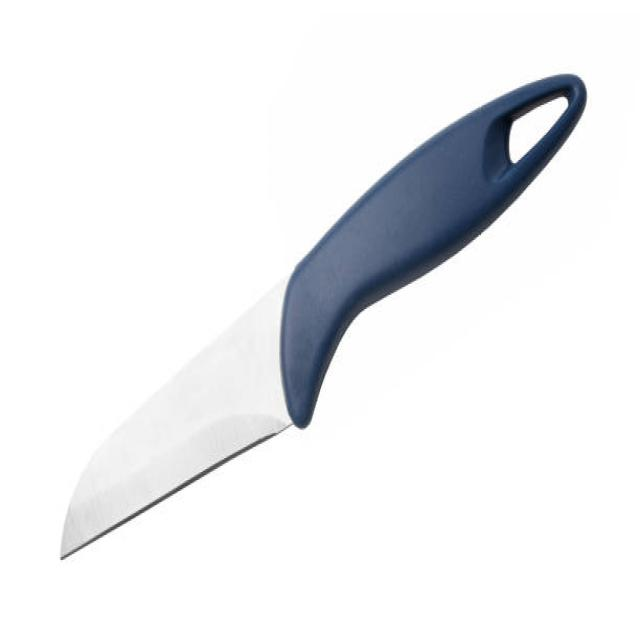knife: (37, 65, 621, 574)
